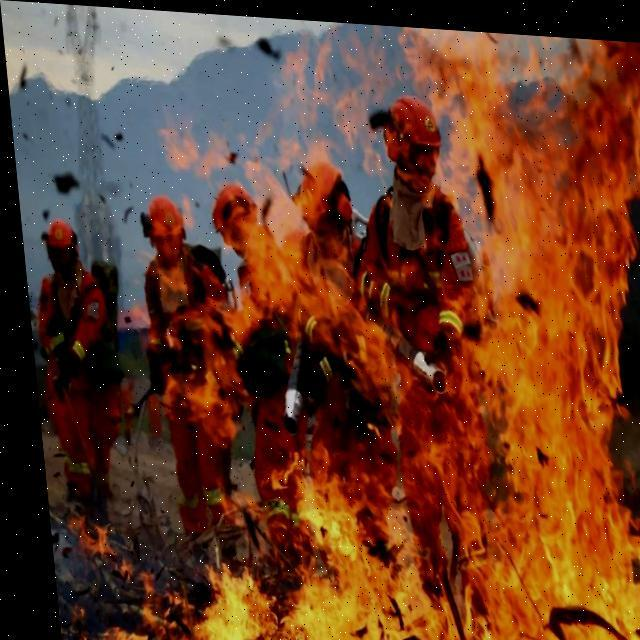Fire: (106, 6, 639, 639)
